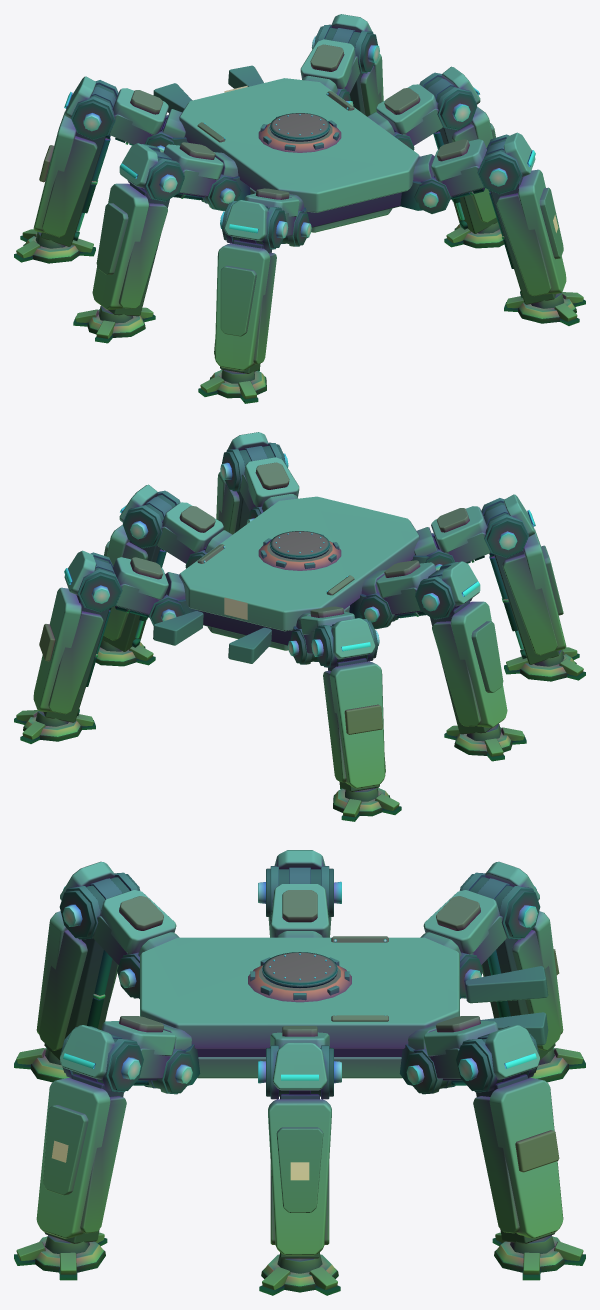
Rendered from legs_hex_beetle.glb.
3 views of the same model, one above another, from view 1: azimuth 30°, elevation 25°; view 2: azimuth 150°, elevation 25°; view 3: azimuth 270°, elevation 25° (orthographic). The views are drawn at different scales.
Parts seen in each view (by area): view 1: Body__armor, Leg_2_Knee__armor_sub, Leg_4_Knee__armor, Leg_5_Knee__armor_sub, Leg_4_Knee__armor_sub, Leg_2_Knee__armor, Body__dark, Leg_0_Knee__armor_sub, Leg_5_Knee__armor, Leg_2_Femur__armor, Leg_4_Femur__armor, Leg_5_Femur__armor (+38 smaller); view 2: Body__armor, Leg_0_Knee__armor, Leg_2_Knee__armor_sub, Leg_4_Knee__armor_sub, Leg_2_Knee__armor, Body__gunmetal, Leg_1_Knee__armor_sub, Leg_1_Knee__armor, Body__dark, Leg_2_Femur__armor, Leg_0_Femur__armor, Leg_1_Femur__armor (+38 smaller); view 3: Body__armor, Leg_1_Knee__armor, Leg_5_Knee__armor_sub, Leg_3_Knee__armor, Leg_5_Knee__armor, Body__gunmetal, Leg_3_Knee__armor_sub, Leg_4_Knee__armor_sub, Leg_1_Femur__armor, Leg_5_Femur__armor, Body__dark, Leg_0_Femur__armor (+45 smaller).
Boxes of the visible parts, x1,y1,x2,y2 form: Body__armor: (179, 78, 419, 212); Leg_2_Knee__armor_sub: (96, 203, 167, 308); Leg_4_Knee__armor: (214, 243, 270, 370); Leg_5_Knee__armor_sub: (496, 187, 563, 296); Leg_4_Knee__armor_sub: (214, 252, 276, 364); Leg_2_Knee__armor: (92, 183, 149, 309); Body__dark: (270, 113, 401, 227); Leg_0_Knee__armor_sub: (42, 136, 97, 237); Leg_5_Knee__armor: (518, 169, 566, 294); Leg_2_Femur__armor: (119, 143, 223, 188); Leg_4_Femur__armor: (224, 193, 299, 241); Leg_5_Femur__armor: (431, 132, 535, 181); Body__armor: (179, 496, 419, 631); Leg_0_Knee__armor: (329, 661, 385, 788); Leg_2_Knee__armor_sub: (432, 621, 503, 726); Leg_4_Knee__armor_sub: (502, 545, 563, 655); Leg_2_Knee__armor: (450, 601, 507, 727); Body__gunmetal: (153, 534, 339, 663); Leg_1_Knee__armor_sub: (48, 611, 103, 714); Leg_1_Knee__armor: (33, 587, 81, 712); Body__dark: (198, 531, 329, 645); Leg_2_Femur__armor: (376, 561, 480, 606); Leg_0_Femur__armor: (300, 611, 375, 659); Leg_1_Femur__armor: (64, 550, 168, 599); Body__armor: (140, 937, 459, 1048); Leg_1_Knee__armor: (489, 1078, 563, 1238); Leg_5_Knee__armor_sub: (43, 1096, 126, 1233); Leg_3_Knee__armor: (268, 1099, 331, 1255); Leg_5_Knee__armor: (36, 1078, 110, 1238); Body__gunmetal: (250, 957, 548, 1045); Leg_3_Knee__armor_sub: (270, 1127, 329, 1244); Leg_4_Knee__armor_sub: (39, 930, 118, 1050); Leg_1_Femur__armor: (423, 1021, 539, 1079); Leg_5_Femur__armor: (60, 1021, 176, 1079); Body__dark: (197, 952, 402, 1056); Leg_0_Femur__armor: (423, 861, 539, 953).
Size of the model in its own units: 4.78 by 1.82 by 4.36.
